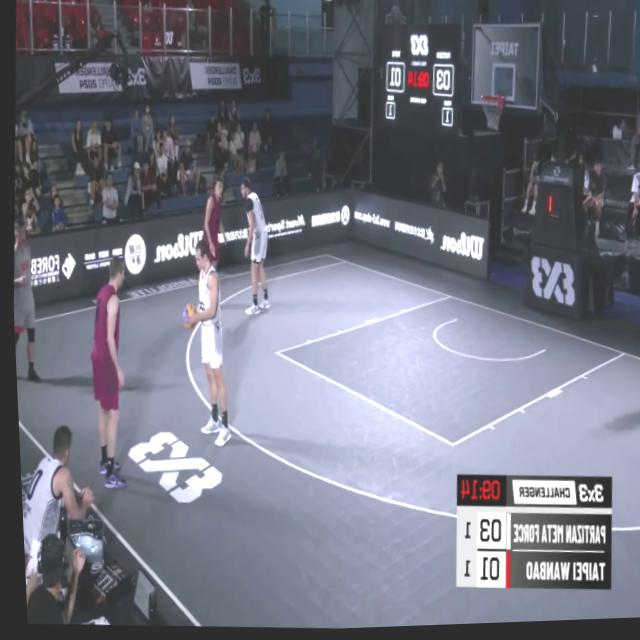ball: (177, 301, 196, 336)
hoop: (478, 94, 506, 138)
player: (74, 253, 139, 495), (174, 241, 235, 454), (236, 176, 275, 318), (197, 177, 228, 271)
